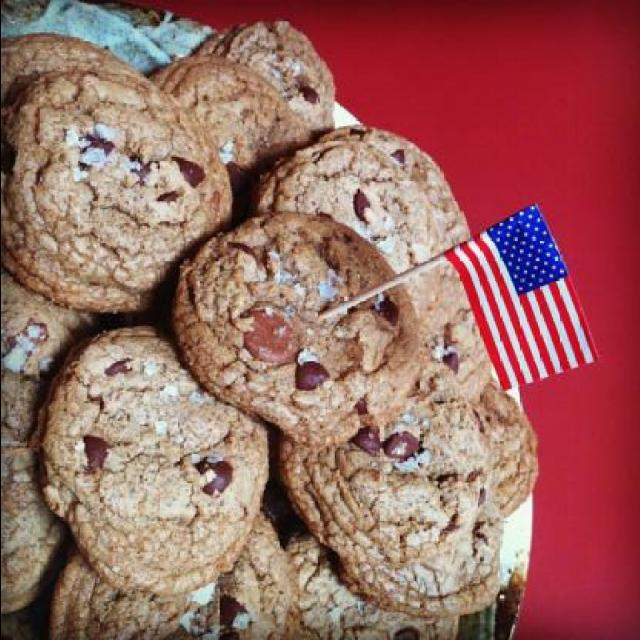Cookie: (1, 21, 544, 639)
